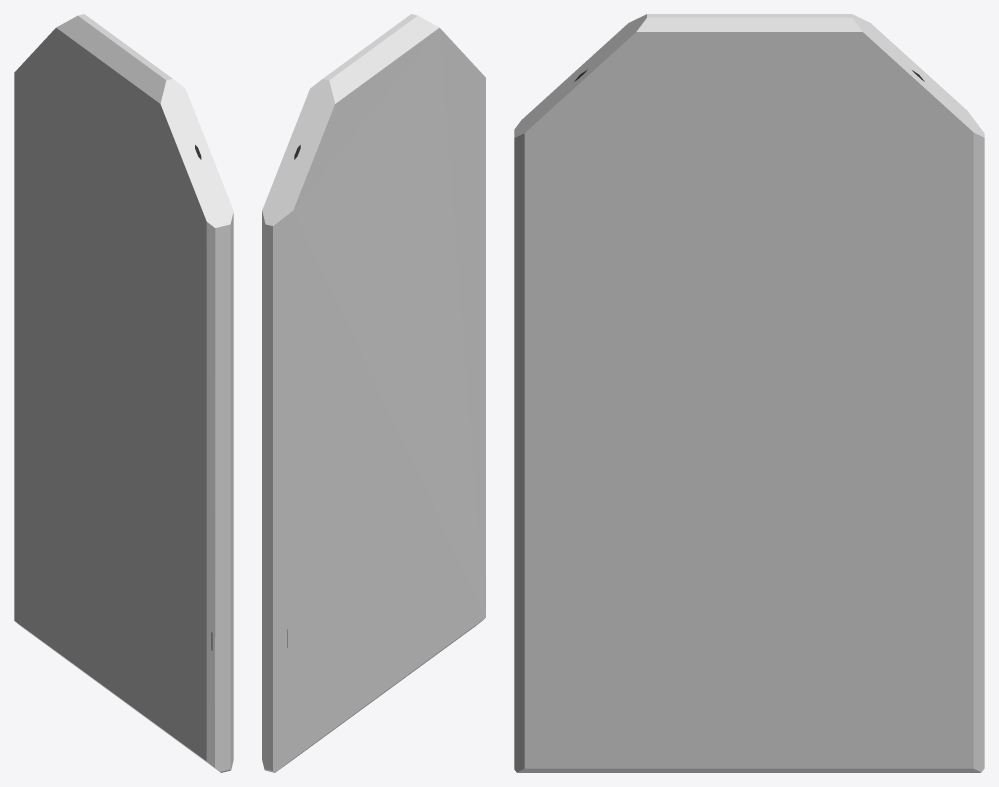
File: SM_gate_01.fbx
3 renders of one model, left to right at view 1: azimuth 30°, elevation 25°; view 2: azimuth 150°, elevation 25°; view 3: azimuth 270°, elevation 25°, orthographic. The views are drawn at different scales.
Visible parts, largest first — view 1: SM_gate_01_ConvexHulls; view 2: SM_gate_01_ConvexHulls; view 3: SM_gate_01_ConvexHulls.
Boxes of the visible parts, x1,y1,x2,y2 form: SM_gate_01_ConvexHulls: [14, 14, 233, 772]; SM_gate_01_ConvexHulls: [262, 14, 485, 772]; SM_gate_01_ConvexHulls: [514, 14, 984, 772].
Size of the model in its own units: 19.75 by 244 by 432.
